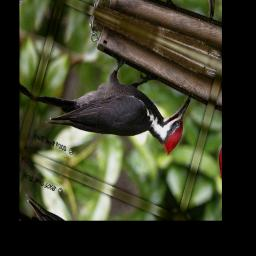Woodpecker: (30, 29, 195, 177)
